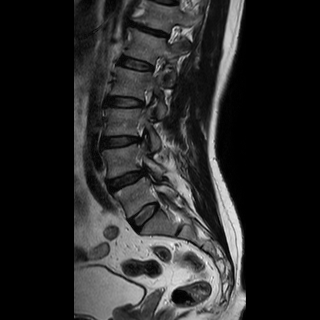RFS0: (143, 47, 169, 81)
